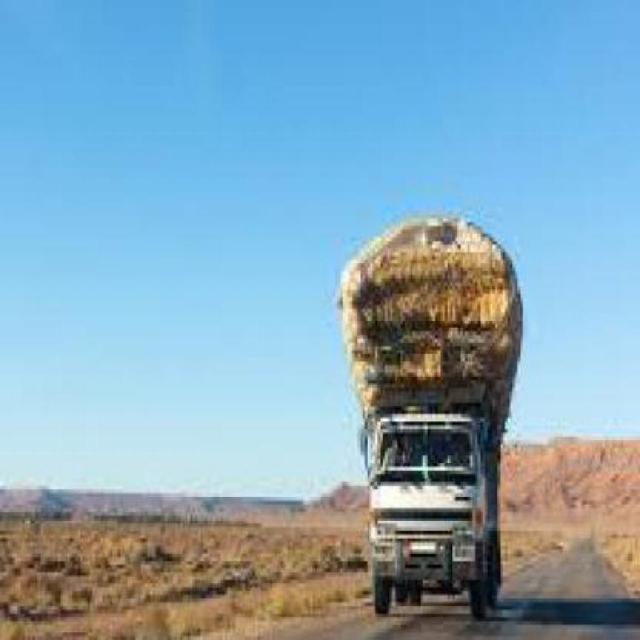goods: (342, 216, 522, 436)
truck: (366, 410, 501, 619)
